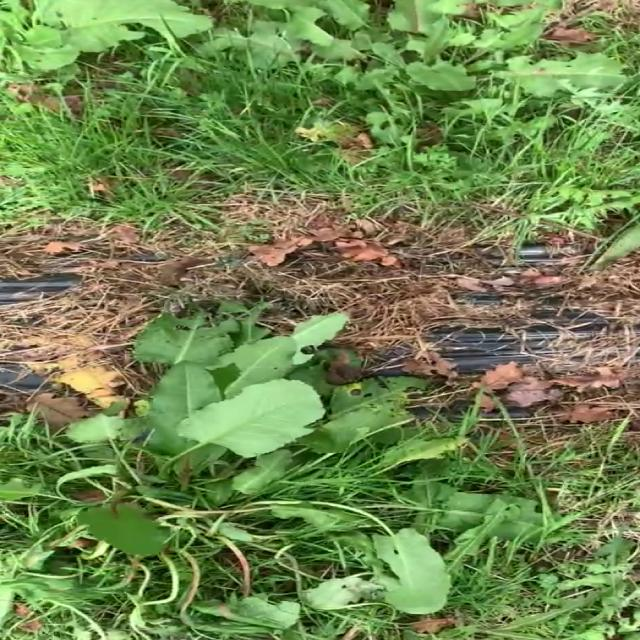organic waste: (0, 289, 531, 640), (187, 0, 640, 167), (0, 0, 208, 90)
